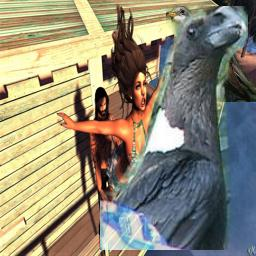Crow: (100, 6, 248, 250)
Cuckoo: (166, 6, 256, 102)
